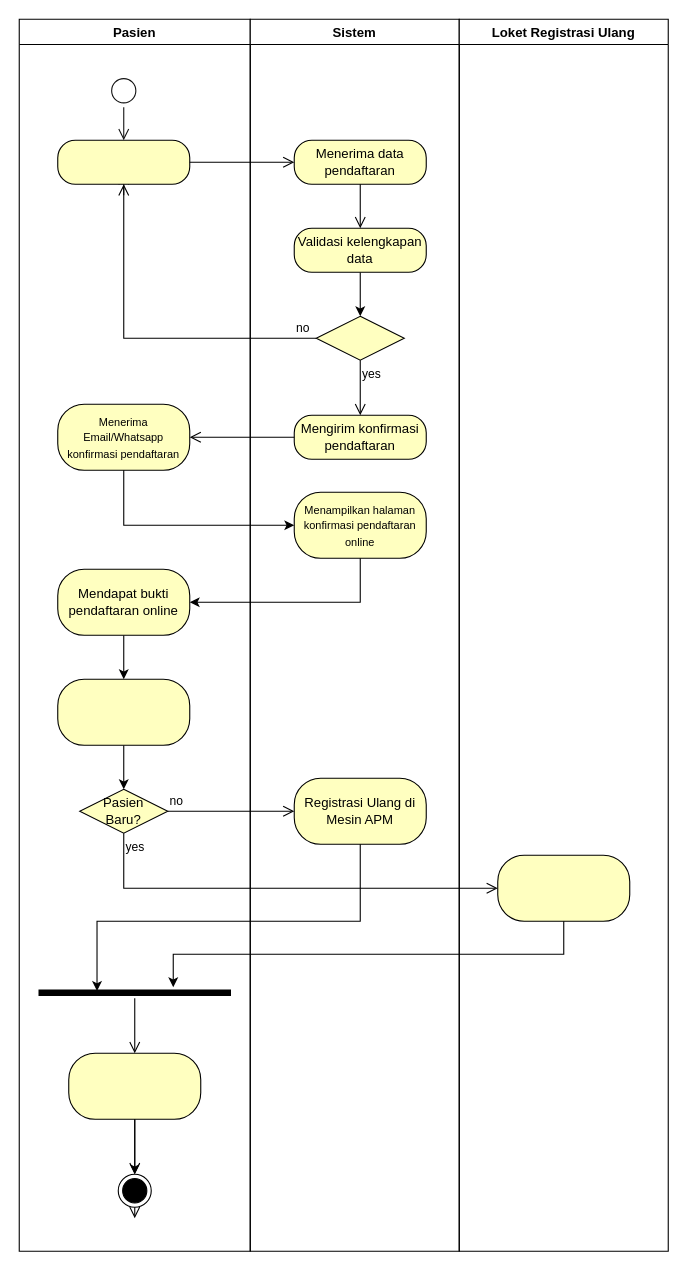
Image size: 688x1271. Some labels were removed from this diagram. The shapes that lost their labels are listed below. From the top down, each one's centre as x and y in pixels, then its label:
At point (123, 161): "Mengisi formulir pendaftaran".
At point (359, 337): "Data Lengkap?".
At point (123, 711): "Melakukan Registrasi Ulang".
At point (563, 887): "Registrasi Ulang di Loket".
At point (134, 1085): "Menunggu Pelayanan Pemeriksaan".
